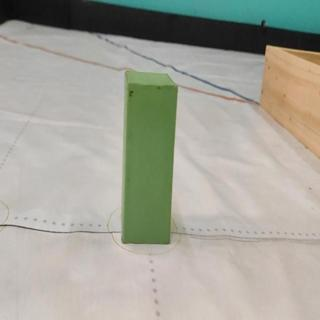greenbox: (119, 67, 180, 245)
